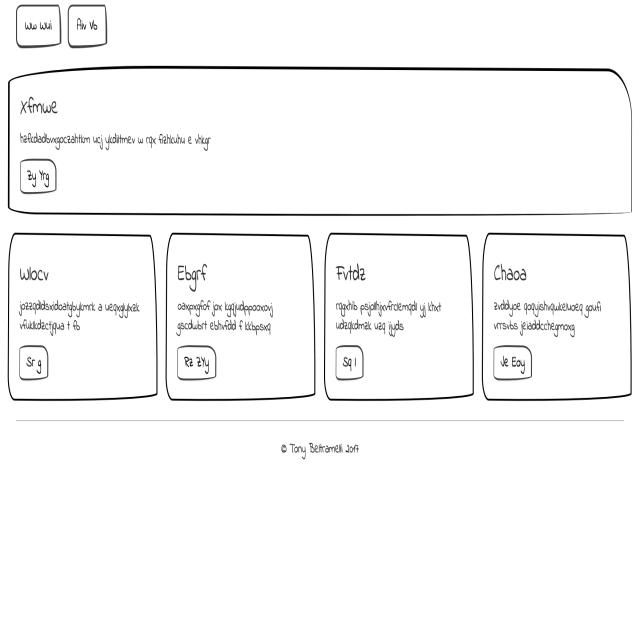Button: (492, 343, 532, 383), (176, 346, 218, 382), (18, 344, 50, 379), (335, 344, 364, 381)
Card: (10, 67, 632, 217), (481, 227, 632, 403), (162, 229, 315, 398), (7, 230, 158, 400), (323, 229, 473, 399)
Footer: (0, 416, 640, 640)
Heading 6: (18, 95, 59, 119), (176, 262, 210, 290), (491, 260, 530, 283), (333, 261, 366, 286), (16, 261, 51, 284)
Navigation Bar: (14, 0, 109, 49)
Paragraph: (18, 296, 140, 333), (334, 298, 442, 338), (20, 132, 213, 154), (493, 300, 601, 339), (170, 300, 276, 331)
